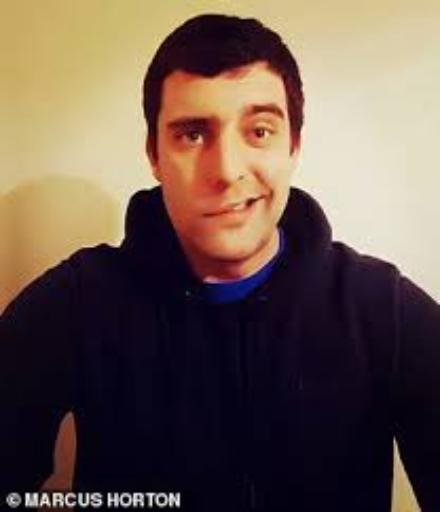left_eye: (246, 128, 278, 143)
left_lip_corner: (257, 190, 272, 205)
right_eye: (172, 131, 207, 150)
right_lip_corner: (200, 207, 232, 220)
